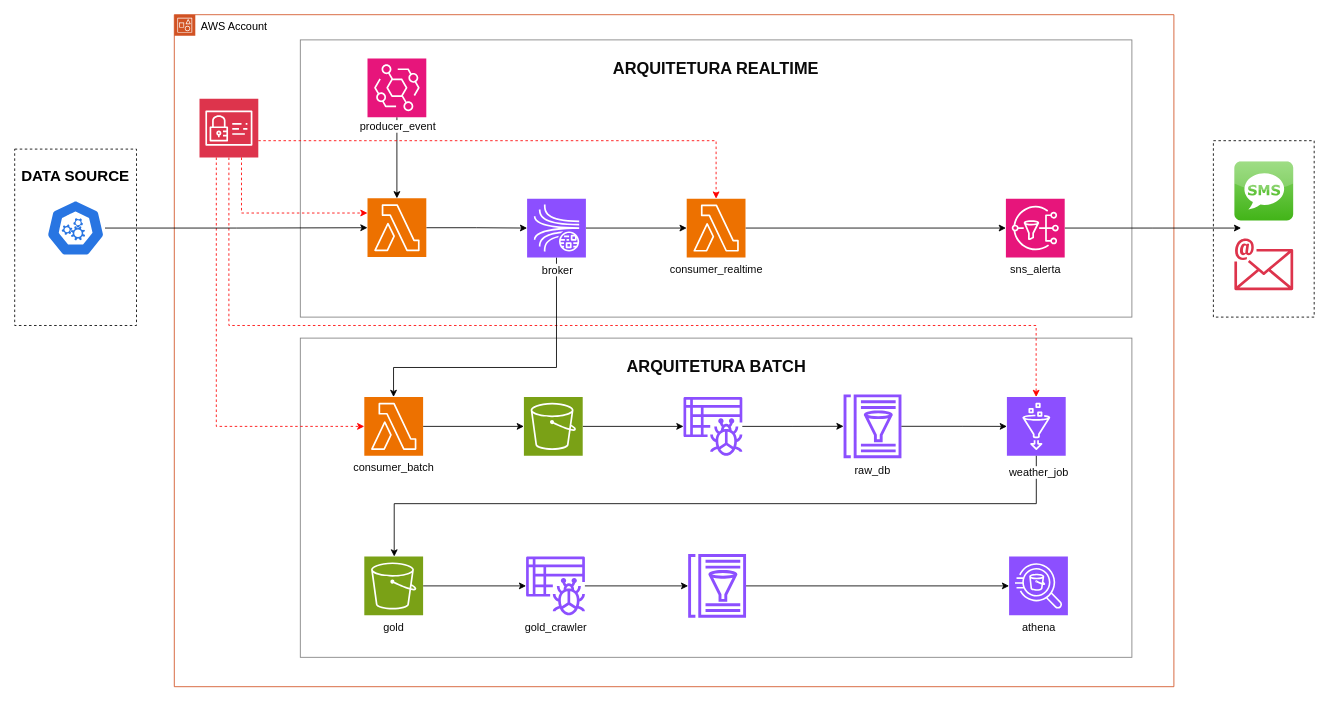
Some shapes in this 1329 by 701 pixel diagram are drawn without their labels. The centre of each missing label's shape, as x and y in pixels:
"API Tomorrow" goes at pixel 75 227.
"gold_db" goes at pixel 716 585.
"producer" goes at pixel 396 227.
"raw" goes at pixel 553 426.
"raw_crawler" goes at pixel 712 426.
